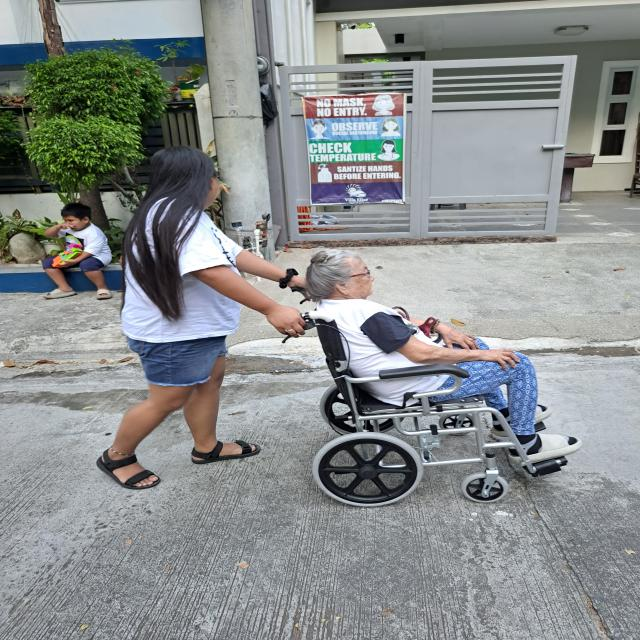wheelchairs: (292, 300, 577, 514)
